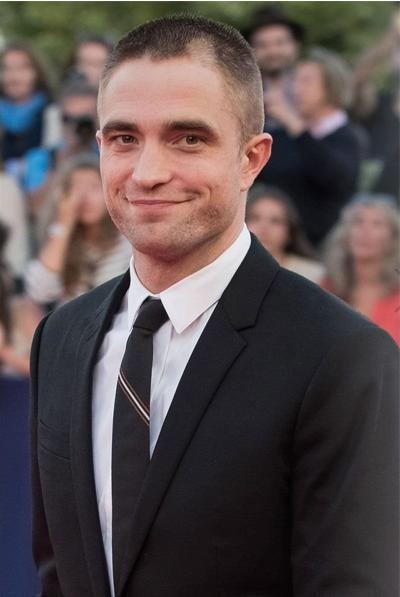Sober: (104, 58, 242, 241)
